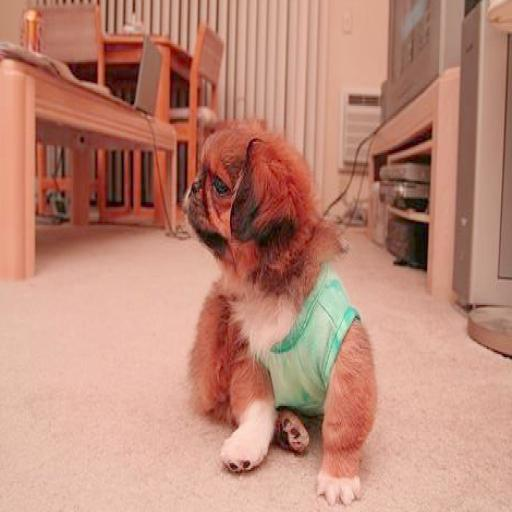dog_face: (177, 129, 311, 256)
